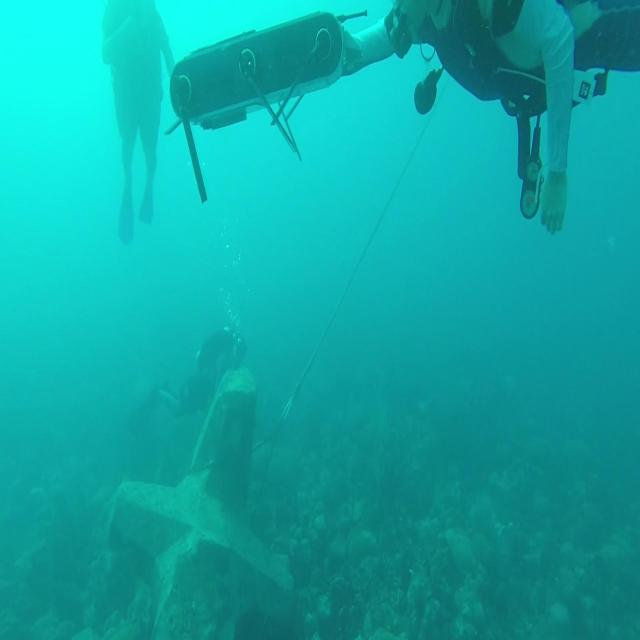human: (353, 0, 639, 234), (100, 0, 176, 244), (128, 325, 246, 436)
